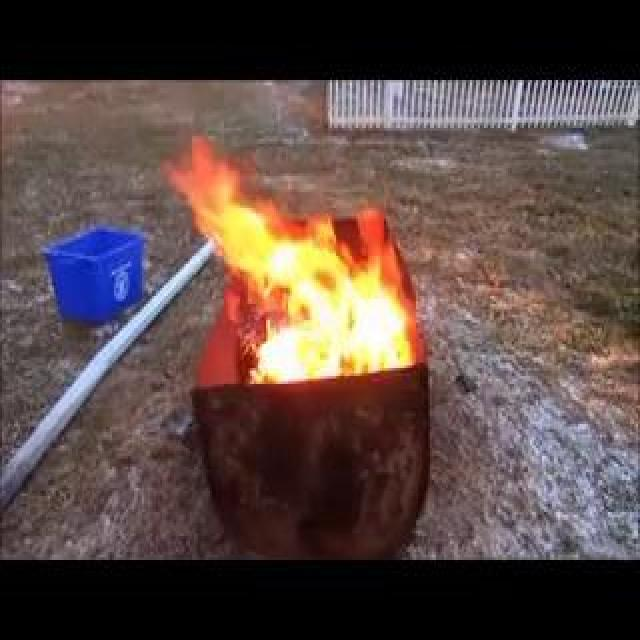Fire: (230, 242, 310, 266)
